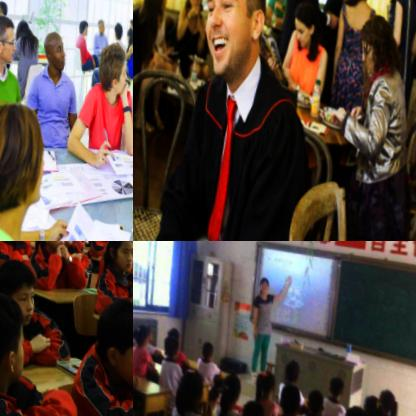head: (0, 92, 52, 220), (195, 0, 275, 79), (89, 288, 133, 383), (0, 286, 30, 379), (0, 252, 40, 321), (355, 10, 394, 75), (90, 37, 129, 96), (168, 363, 207, 413), (286, 0, 318, 44), (39, 28, 68, 69), (214, 364, 240, 404), (273, 377, 301, 414), (0, 12, 18, 67), (250, 362, 275, 396), (334, 394, 369, 416), (372, 383, 395, 414), (299, 383, 322, 414), (105, 241, 133, 266), (358, 387, 382, 416), (138, 0, 162, 28), (235, 395, 267, 416), (322, 367, 345, 396), (12, 11, 31, 44), (280, 352, 299, 382), (159, 331, 179, 359), (195, 336, 214, 362), (163, 323, 180, 344), (133, 320, 147, 345), (182, 0, 202, 13), (255, 274, 270, 291), (148, 0, 170, 10), (76, 14, 88, 32), (111, 16, 121, 35), (123, 24, 133, 42), (94, 14, 104, 31), (126, 12, 133, 32), (0, 0, 6, 18)
